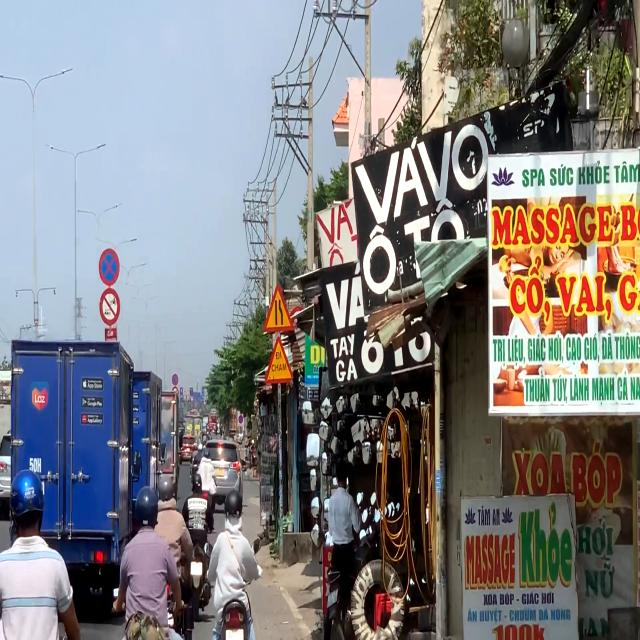P.130: (98, 247, 120, 288)
W.203c: (262, 281, 296, 333)
W.245a: (264, 335, 295, 385)
